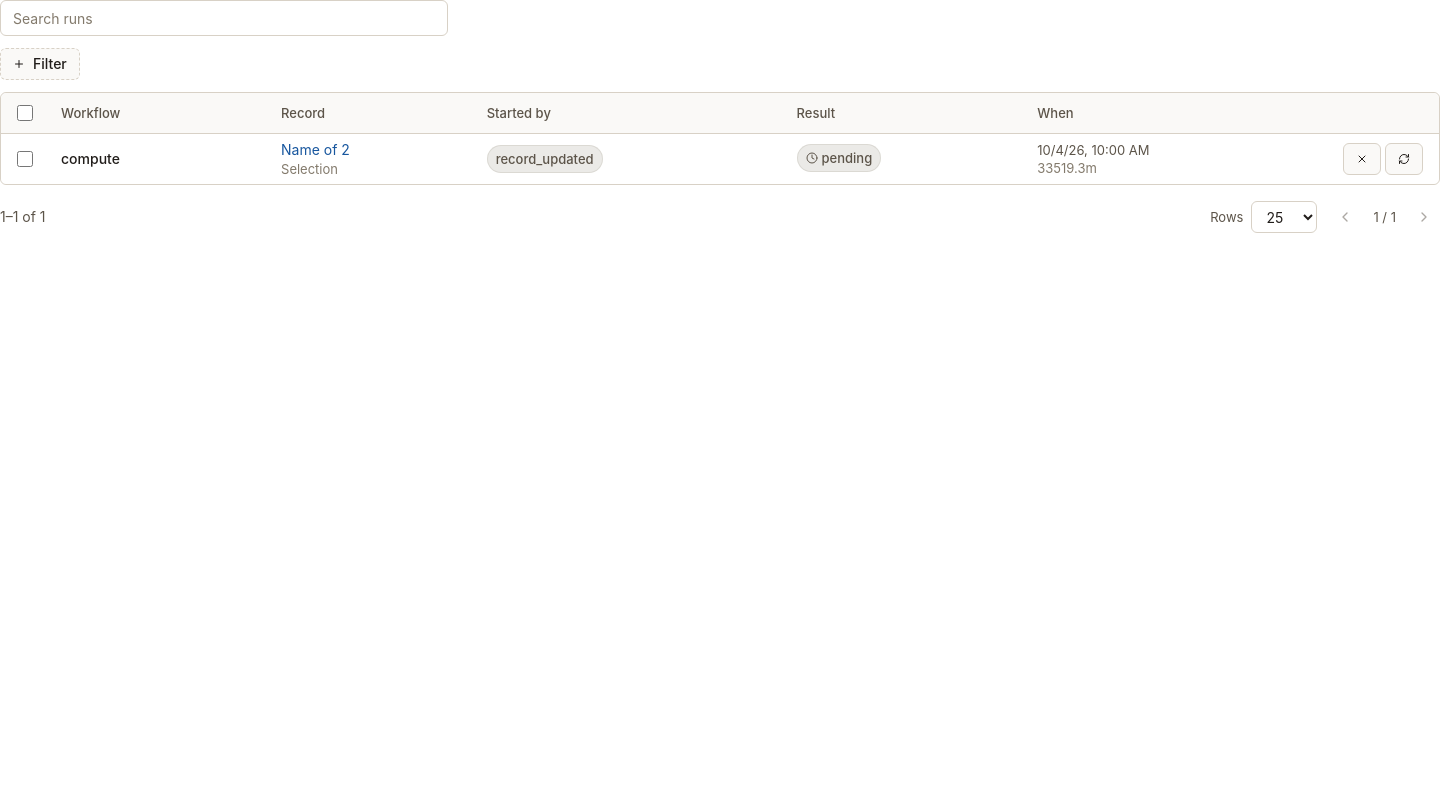
Test: Runs table: deleting runs › deletes the ticked runs after asking, so a waiting one never starts
Click the checkbox named "Select the compute run".
click(25, 159)  # box [17,151,33,167]
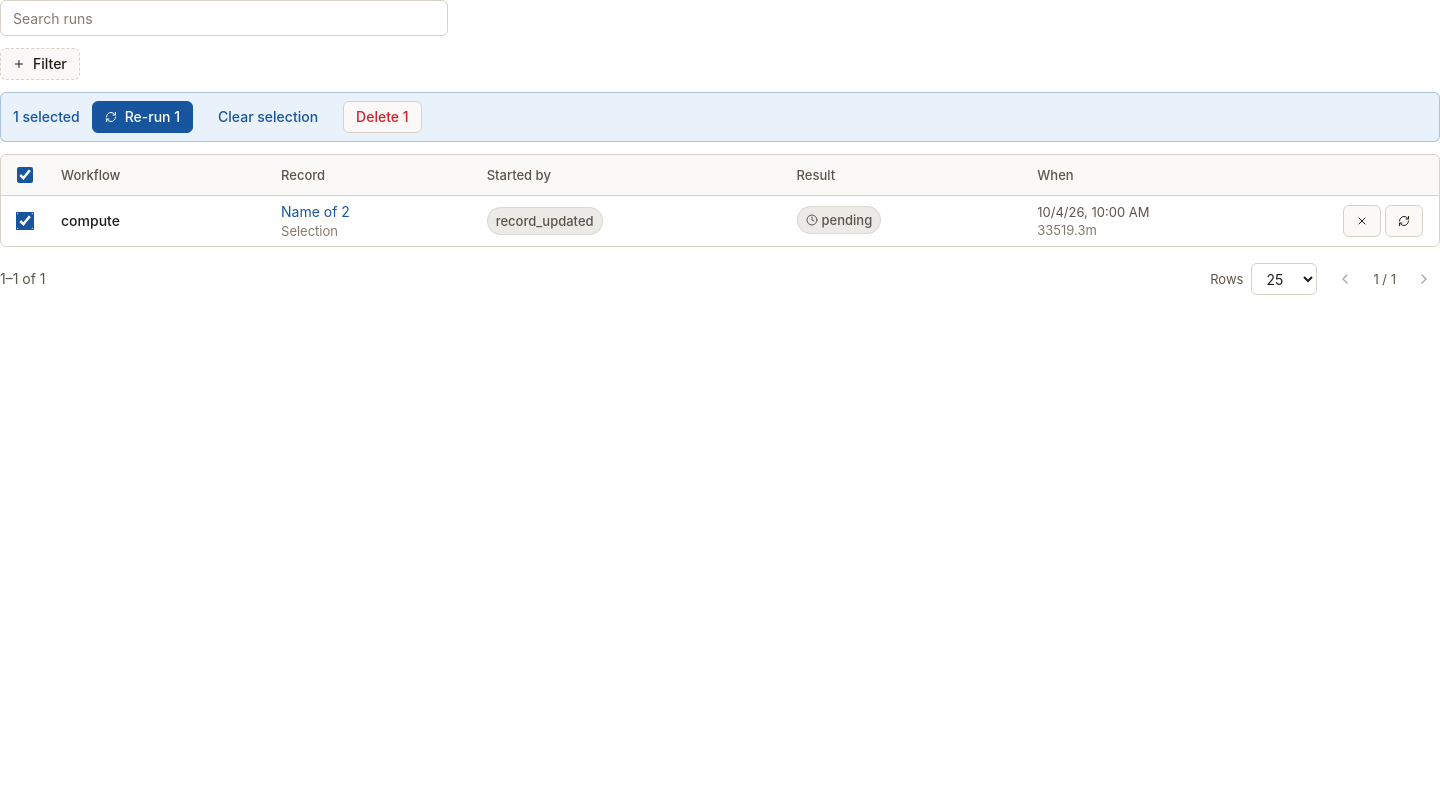
Click the button "Delete 1".
click(382, 117)  # box [343,101,422,133]
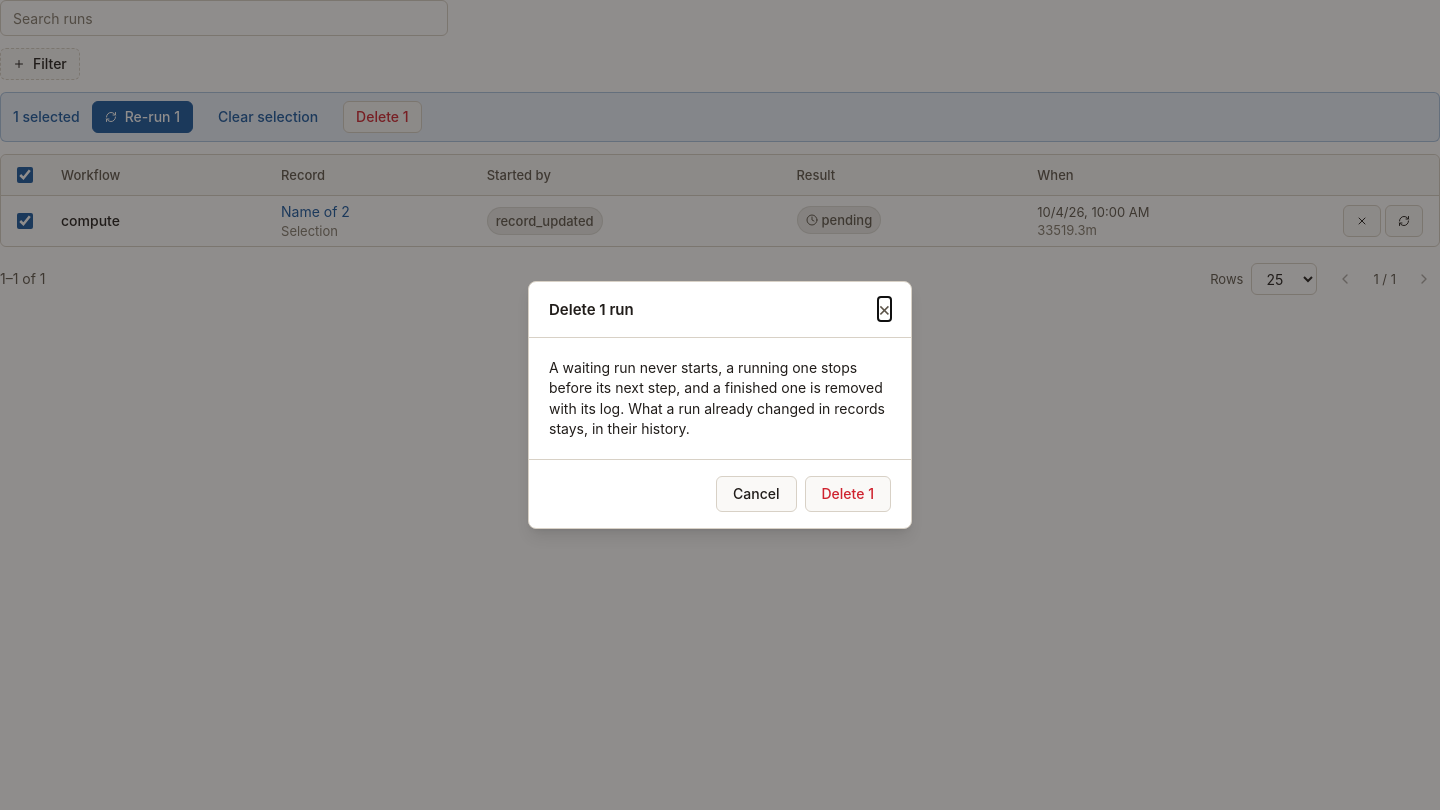
Check: the text "A waiting run never starts" is shown, box [549,359,885,437]
Click the button "Delete 1".
click(848, 494)  # box [804,476,891,512]
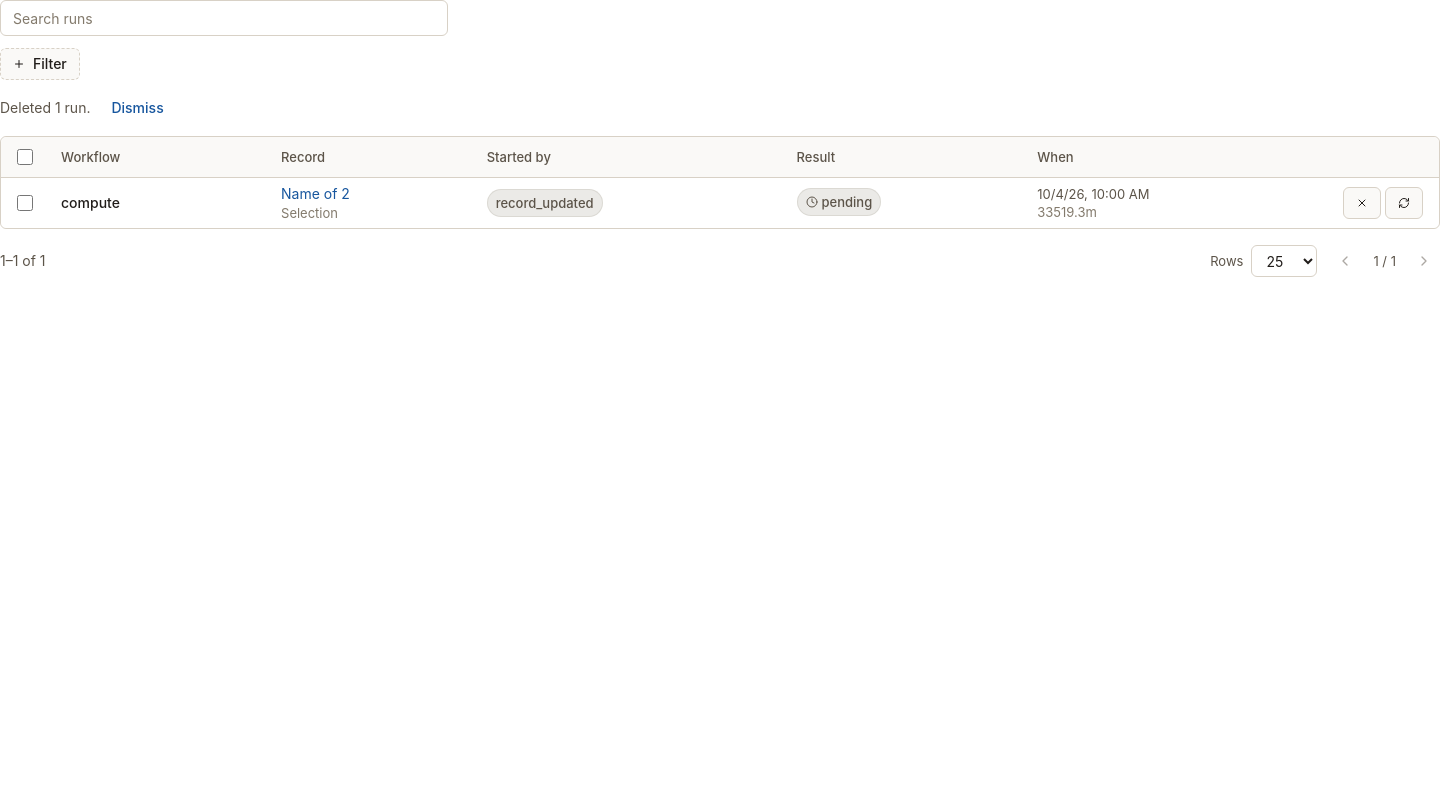
Check: the text "Deleted 1 run." is shown, box [0,92,177,124]
